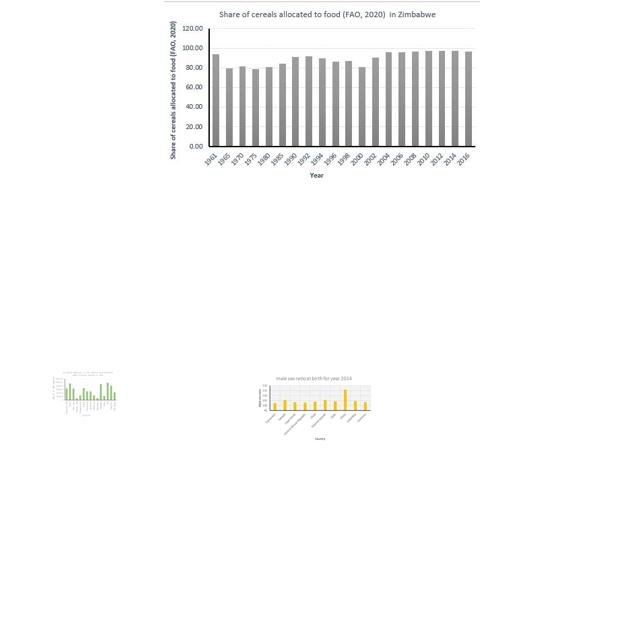Graph: (164, 1, 480, 185), (254, 373, 374, 444), (51, 371, 118, 418)
